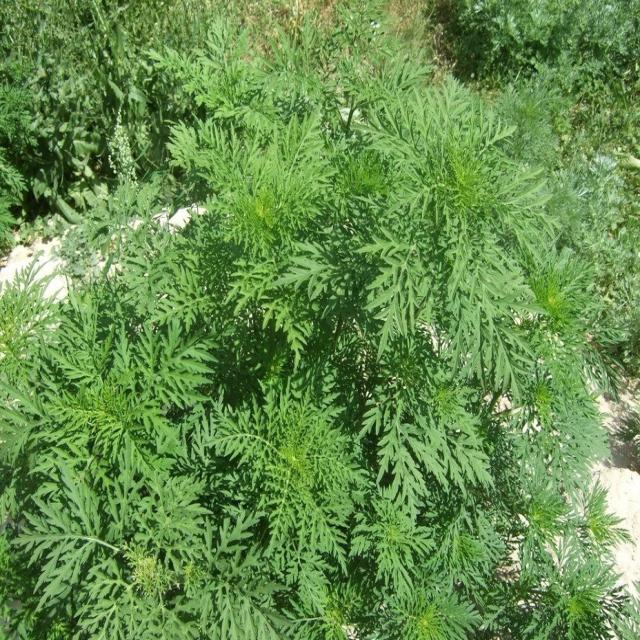ambrosia: (364, 92, 532, 382), (174, 105, 350, 314), (32, 316, 185, 515), (211, 401, 381, 566)
